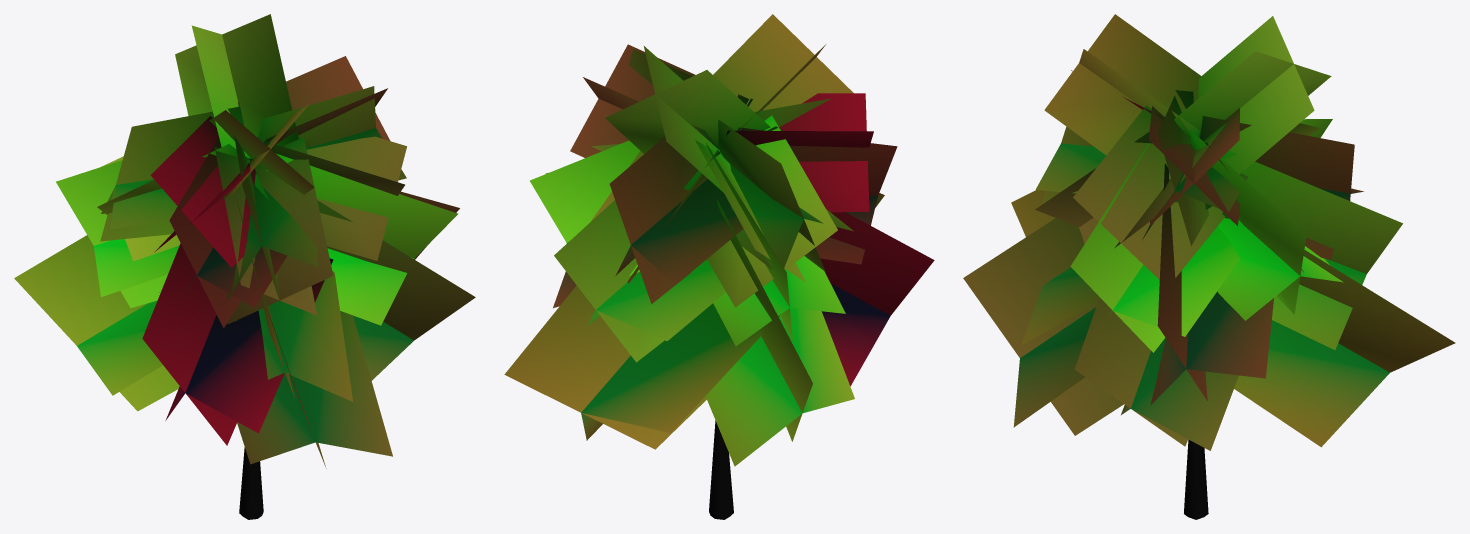
The model's file is Super_11_2.fbx.
3 renders of one model, left to right at view 1: azimuth 30°, elevation 25°; view 2: azimuth 150°, elevation 25°; view 3: azimuth 270°, elevation 25°, orthographic. The views are drawn at different scales.
Parts seen in each view (by area): view 1: Super_11_2; view 2: Super_11_2; view 3: Super_11_2.
Boxes of the visible parts, <box> form: Super_11_2: <box>14,14,475,519</box>; Super_11_2: <box>504,14,934,519</box>; Super_11_2: <box>963,14,1455,519</box>.
Bounding box in the file's own units: 1545 × 1952 × 1791.
